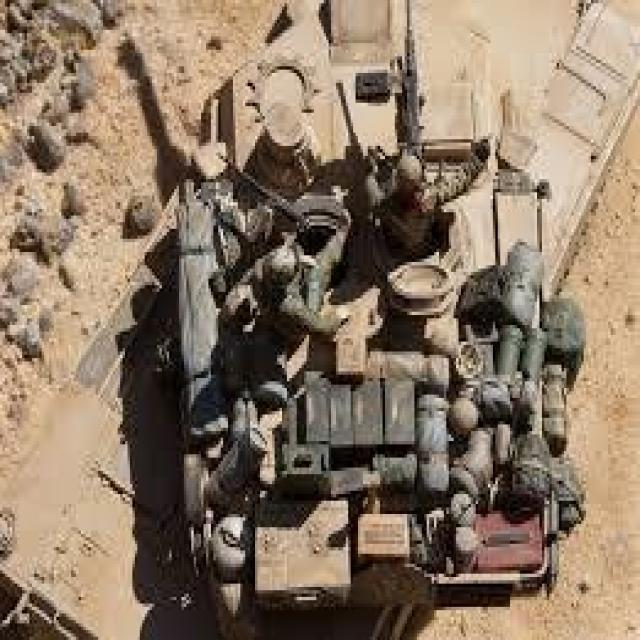MIL_MBT: (177, 30, 562, 623)
